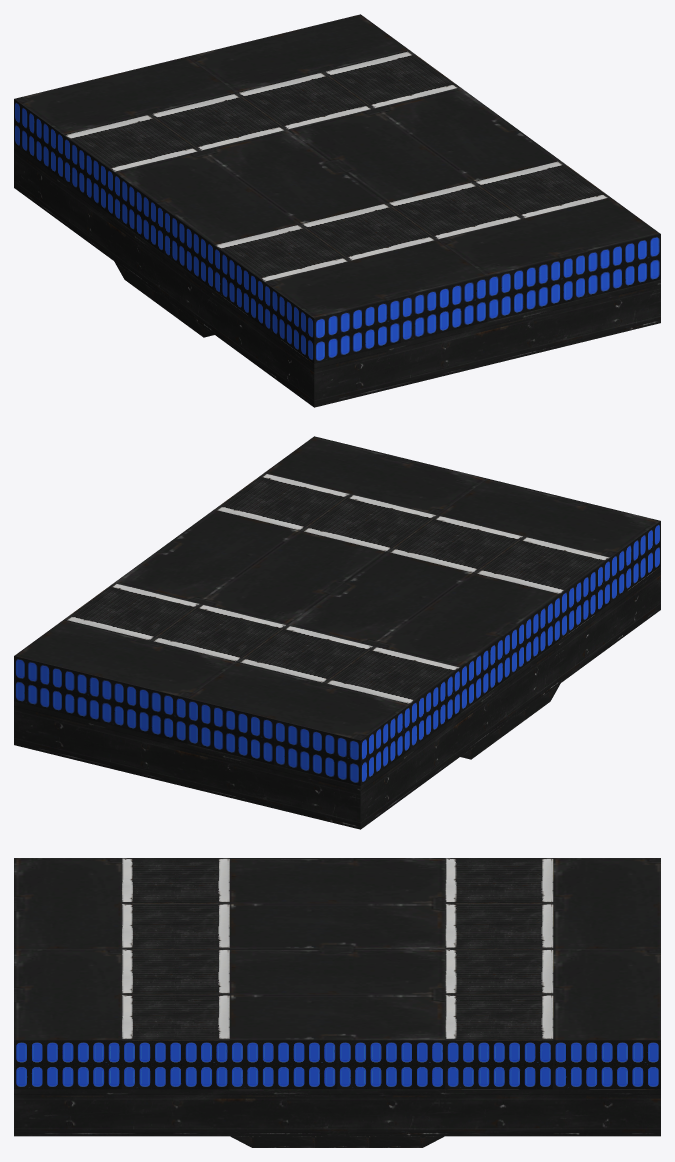
The model's file is ModularPH_Floor_6x1x4.dae.
The picture shows the model from 3 angles, top to bottom: view 1: azimuth 30°, elevation 25°; view 2: azimuth 150°, elevation 25°; view 3: azimuth 270°, elevation 25°; orthographic projection. The views are drawn at different scales.
Visible parts, largest first — view 1: modularPH_Floor; view 2: modularPH_Floor; view 3: modularPH_Floor.
Part boxes in pixels (x1,y1,x2,y2): modularPH_Floor: (14,14,660,407); modularPH_Floor: (14,436,660,829); modularPH_Floor: (14,858,660,1147).
Size of the model in its own units: 4 by 1.1 by 6.
Materials: 1 (1 with a texture image).
